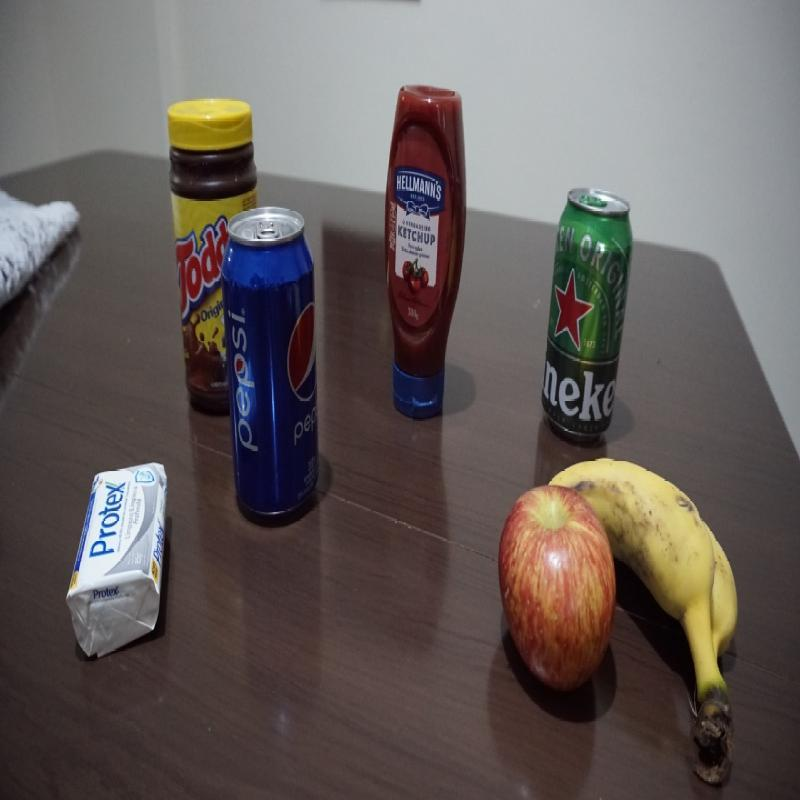Apple: (499, 480, 618, 692)
Banana: (620, 455, 749, 783)
Beer can: (545, 180, 631, 434)
Chocolate Powder: (166, 99, 225, 409)
Ketchup: (386, 85, 465, 420)
Soap: (77, 460, 166, 656)
Soda can: (227, 204, 322, 524)
